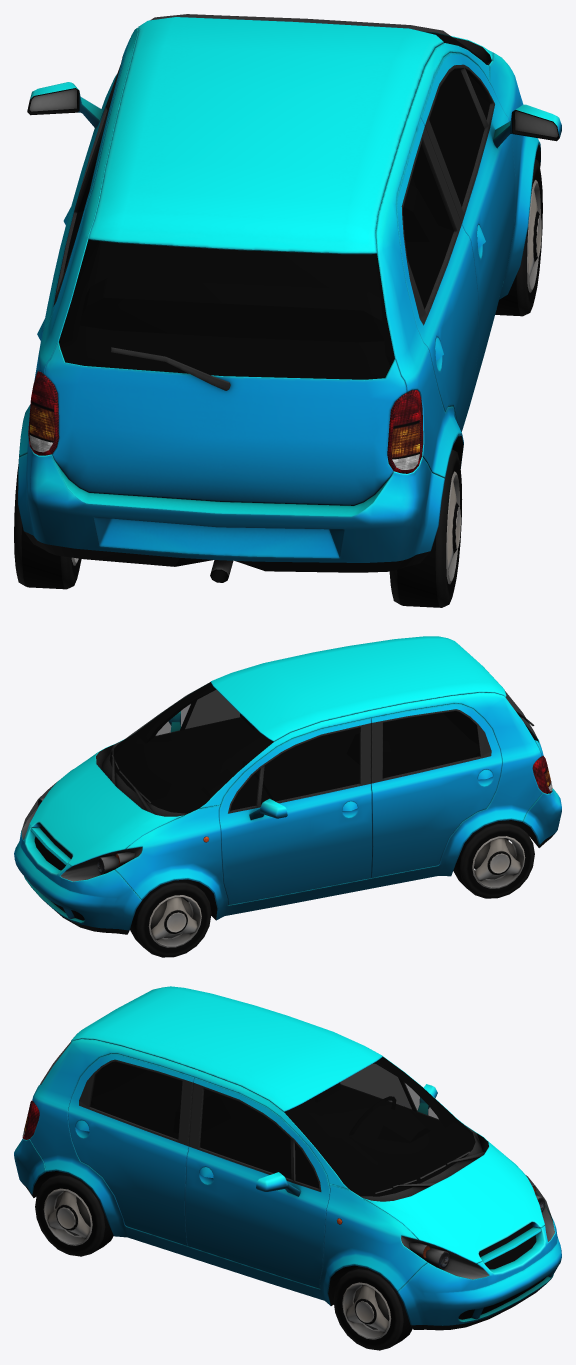
The model's file is car3.dae.
3 views of the same model, one above another, from view 1: azimuth 30°, elevation 25°; view 2: azimuth 150°, elevation 25°; view 3: azimuth 270°, elevation 25° (orthographic). The views are drawn at different scales.
Parts seen in each view (by area): view 1: Wheel_C003_Wheel_0; view 2: Wheel_C003_Wheel_0; view 3: Wheel_C003_Wheel_0.
Part boxes in pixels (left/top/right/bottom): Wheel_C003_Wheel_0: left=14, top=14, right=561, bottom=607; Wheel_C003_Wheel_0: left=14, top=636, right=561, bottom=957; Wheel_C003_Wheel_0: left=14, top=986, right=561, bottom=1350.
Size of the model in its own units: 2.65 by 3.07 by 1.32.
